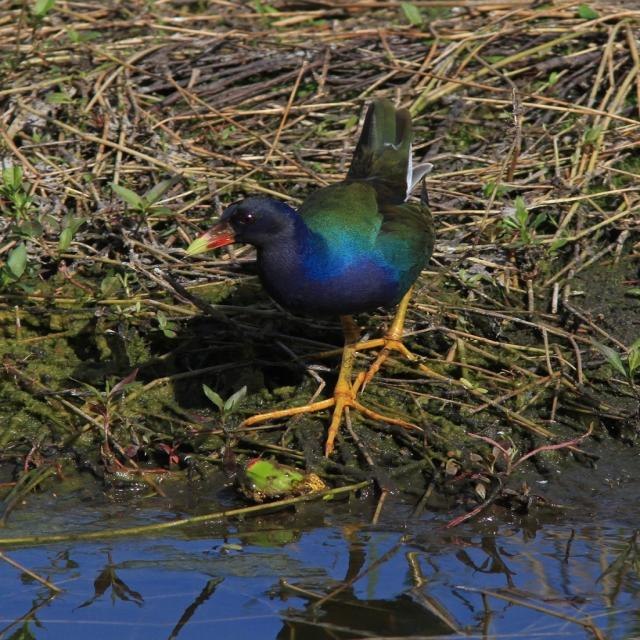bird: (153, 94, 433, 484)
